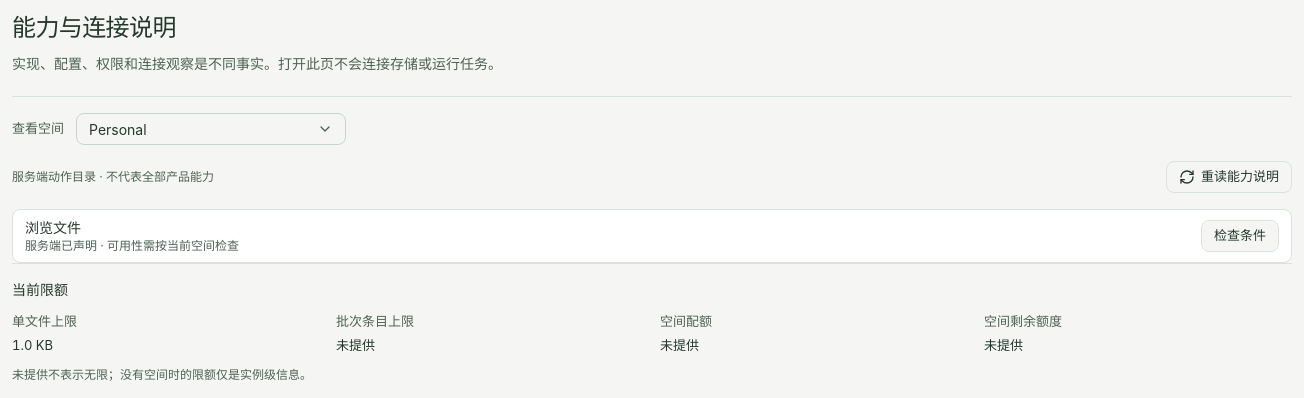
Scenario: clears results and disables further reads after check authorization failure 401
Click the button with aria-label "检查能力 file_list" at (1240, 236), box [1201,220,1279,252]
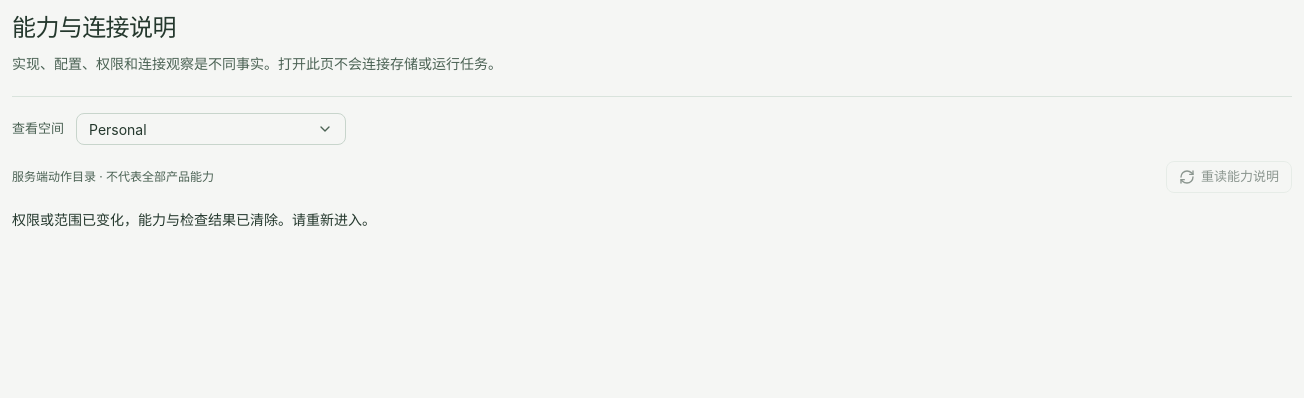
Expected: the text "权限或范围已变化，能力与检查结果已清除。请重新进入。" is shown, [12,211,376,228]
Expected: the list "服务动作目录" is gone
Expected: the button "重读能力说明" is disabled, [1166,161,1292,193]
